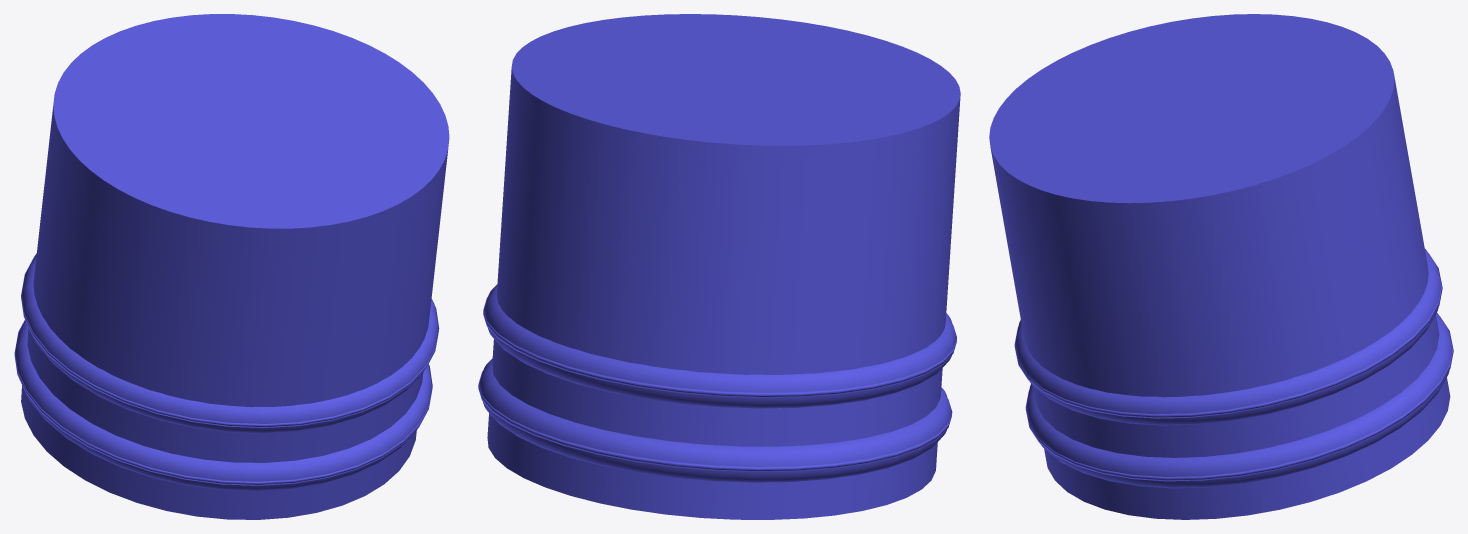
File: bombilla196.obj
3 views of the same model, side by side, from view 1: azimuth 30°, elevation 25°; view 2: azimuth 150°, elevation 25°; view 3: azimuth 270°, elevation 25° (orthographic). The views are drawn at different scales.
Visible parts, largest first — view 1: Cylinder001, Cylinder004, Cylinder002, Cylinder003, Cylinder006; view 2: Cylinder001, Cylinder004, Cylinder003, Cylinder006, Cylinder002; view 3: Cylinder001, Cylinder004, Cylinder003, Cylinder002, Cylinder006.
Part boxes in pixels (x1,y1,x2,y2): Cylinder001: [33, 14, 449, 407]; Cylinder004: [14, 320, 432, 491]; Cylinder002: [21, 253, 439, 433]; Cylinder003: [27, 328, 423, 462]; Cylinder006: [21, 385, 416, 519]; Cylinder001: [496, 14, 960, 374]; Cylinder004: [478, 358, 952, 482]; Cylinder003: [492, 339, 942, 446]; Cylinder006: [487, 413, 937, 519]; Cylinder002: [483, 284, 956, 408]; Cylinder001: [989, 14, 1428, 397]; Cylinder004: [1025, 313, 1453, 488]; Cylinder003: [1033, 315, 1439, 457]; Cylinder002: [1014, 249, 1442, 425]; Cylinder006: [1044, 377, 1450, 519].
Size of the model in its own units: 72.45 by 69.6 by 77.5.
